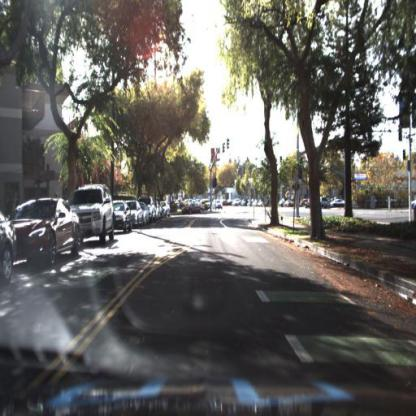car: (17, 193, 83, 270), (84, 180, 117, 247), (2, 204, 19, 290), (113, 197, 134, 237), (131, 200, 143, 231), (142, 200, 150, 226), (202, 200, 214, 212), (219, 198, 231, 210), (217, 201, 225, 213)
